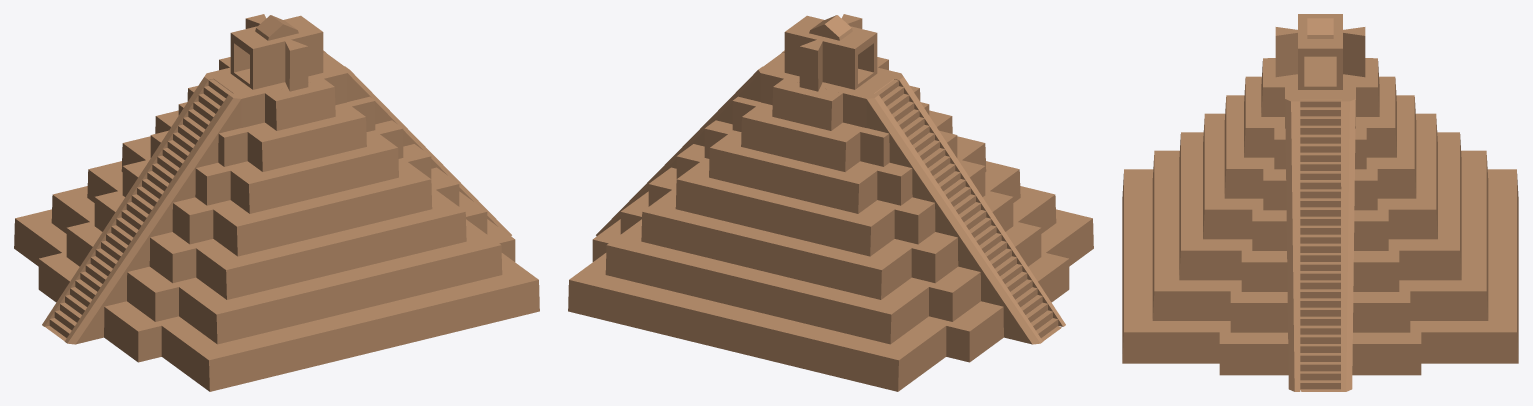
File: temple.fbx
The picture shows the model from 3 angles, left to right: view 1: azimuth 30°, elevation 25°; view 2: azimuth 150°, elevation 25°; view 3: azimuth 270°, elevation 25°; orthographic projection.
Parts seen in each view (by area): view 1: Cube; view 2: Cube; view 3: Cube.
Part boxes in pixels (bbox=[...]): Cube: bbox=[14, 14, 539, 391]; Cube: bbox=[568, 14, 1093, 391]; Cube: bbox=[1122, 14, 1518, 391].
Bounding box in the file's own units: 938 × 526 × 715.
